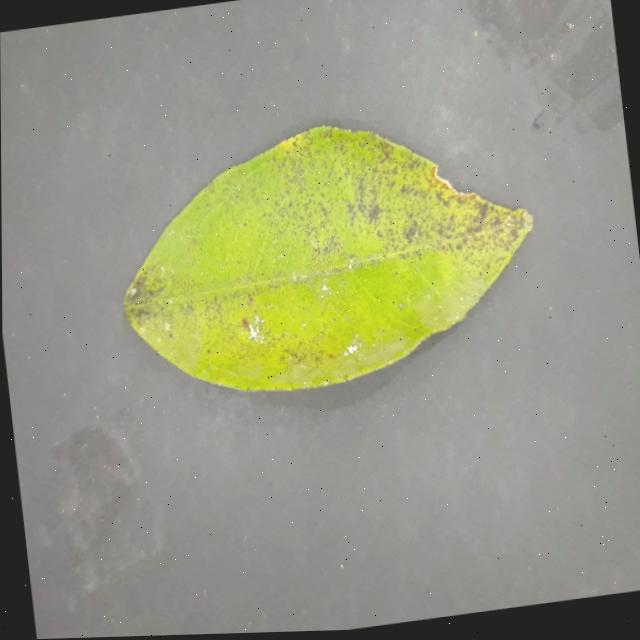greasy_spot: (124, 126, 533, 389)
